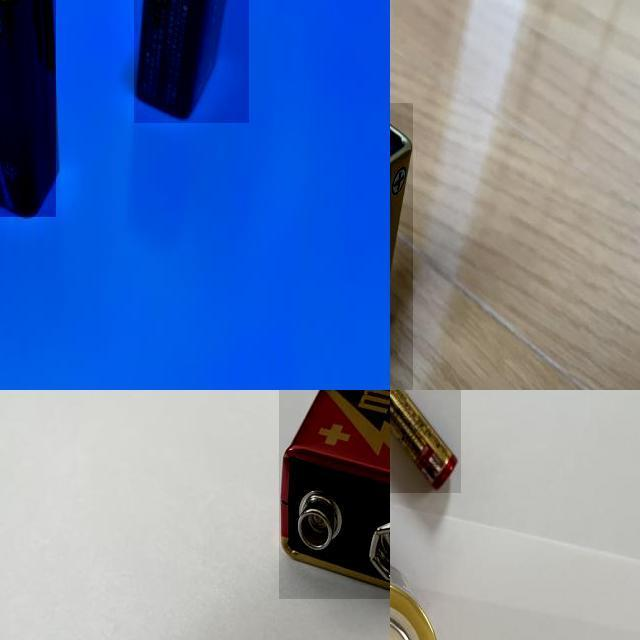9V: (279, 390, 390, 599), (134, 0, 249, 123), (0, 0, 56, 217)
